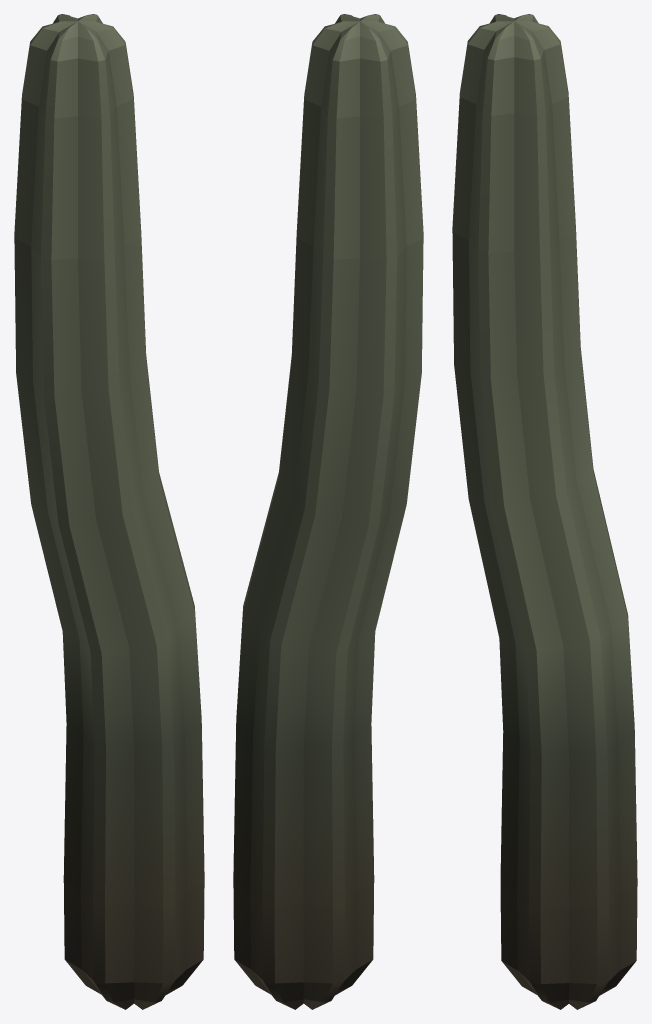
Rendered from plants-cacti-succulents-pole-cactus_v1.fbx.
3 views of the same model, side by side, from view 1: azimuth 30°, elevation 25°; view 2: azimuth 150°, elevation 25°; view 3: azimuth 330°, elevation 25° (orthographic). The views are drawn at different scales.
Visible parts, largest first — view 1: Pole Cactus_v1; view 2: Pole Cactus_v1; view 3: Pole Cactus_v1.
Boxes of the visible parts, <box> form: Pole Cactus_v1: <box>14,14,204,1009</box>; Pole Cactus_v1: <box>233,14,423,1009</box>; Pole Cactus_v1: <box>452,14,637,1009</box>.
Size of the model in its own units: 0.2558 by 1.5 by 0.1921.
